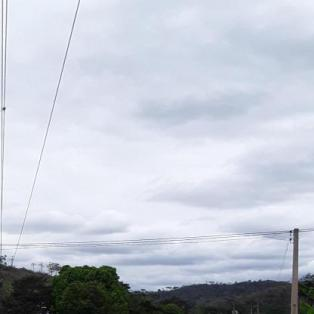Poste: (279, 225, 305, 314)
